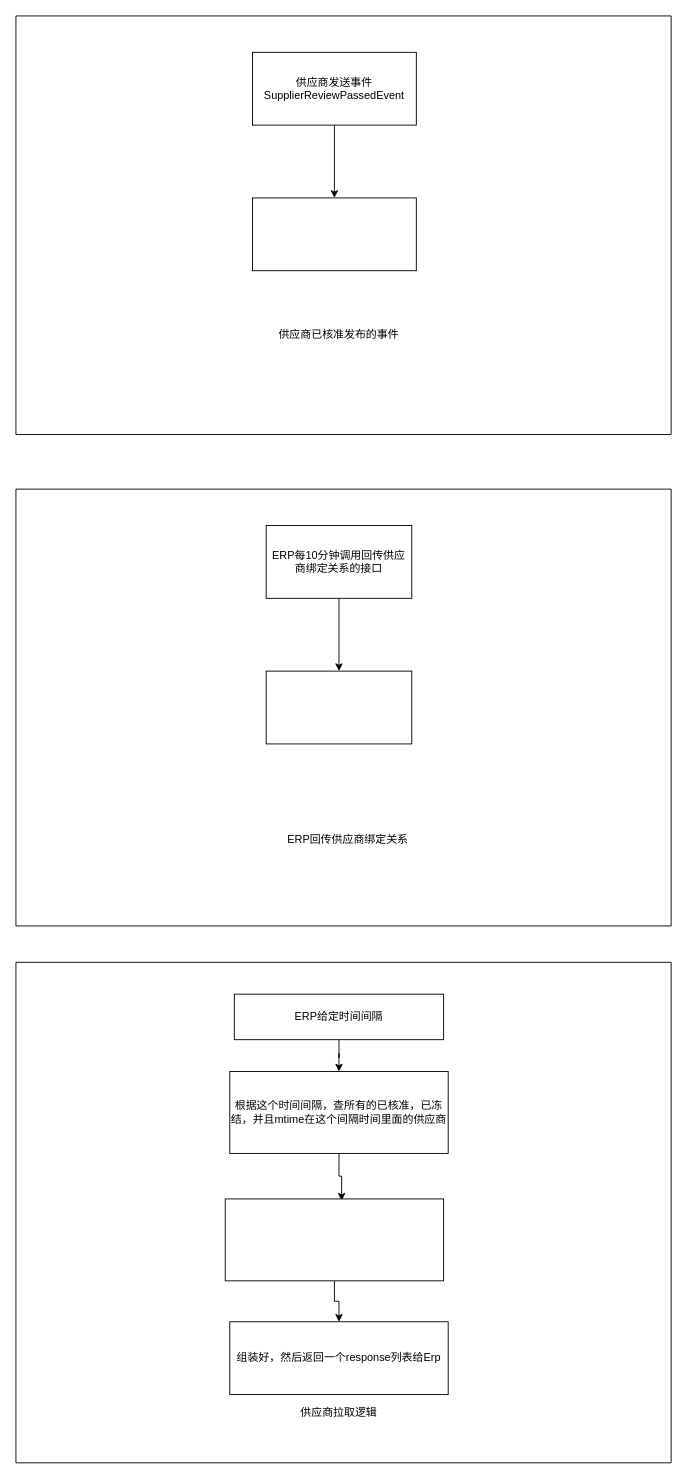
This 687x1479 diagram has some shape labels left out. Here are the shapes that lost their labels. From the top down, the box of each, then its label:
(252, 197, 416, 271): 更新此供应商对应的ts_erp_sync_supplier记录为未推送状态（所有有记录的子公司）
(265, 670, 412, 744): 如果当前能够根据入参的中台编码+子公司id查到ts_erp_sync_supplier记录，则直接根据入参的同步状态更新为推送或者未推送，否则新建一条记录
(224, 1198, 444, 1281): 异步，且并行，找当前公司的所有绑定关系，且status=1，且supplierId条件为上面时间间隔查出来的供应商
